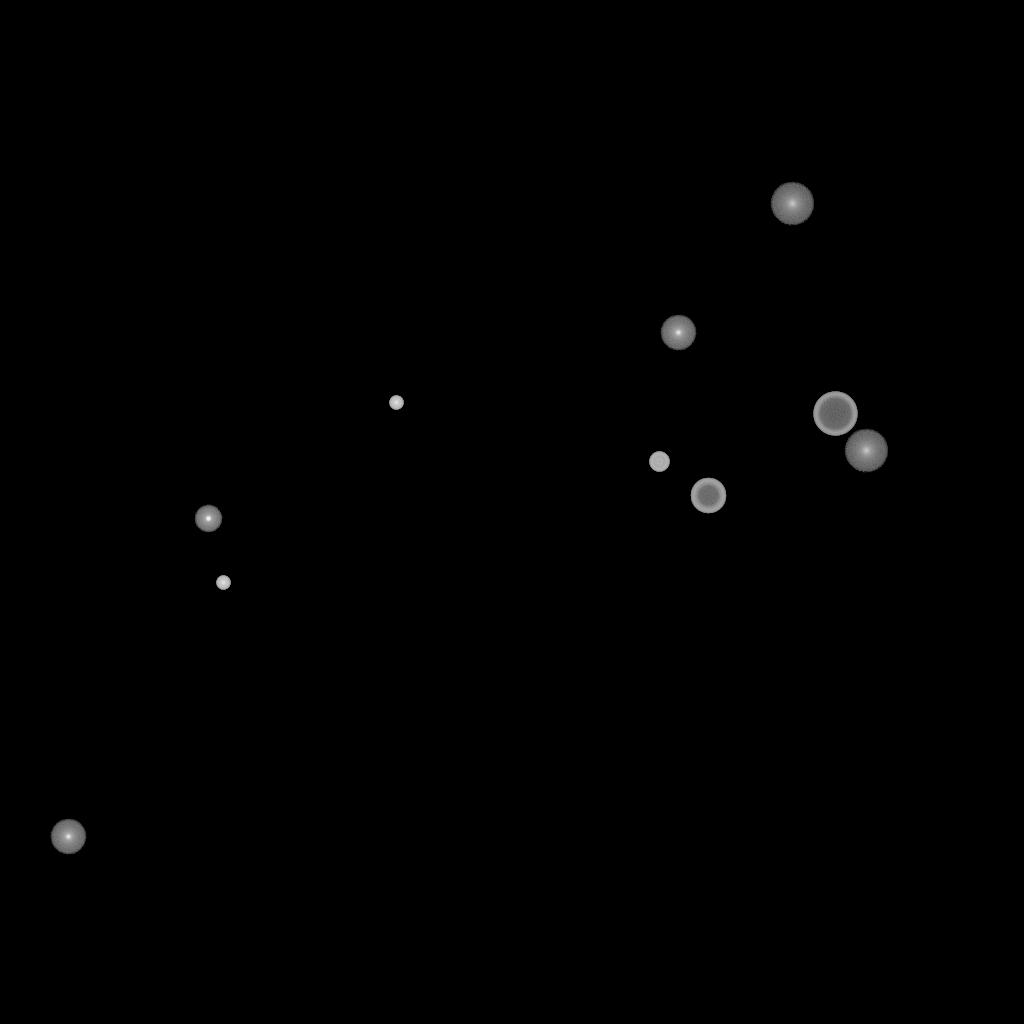depth:-10: (194, 505, 222, 533)
depth:-30: (216, 576, 230, 590), (389, 396, 403, 410)
depth:-40: (649, 452, 669, 472)
depth:-60: (690, 478, 726, 514)
depth:-70: (813, 392, 857, 436)
depth:0: (660, 315, 696, 351), (50, 819, 86, 855)
depth:10: (770, 182, 814, 226), (844, 429, 888, 473)
